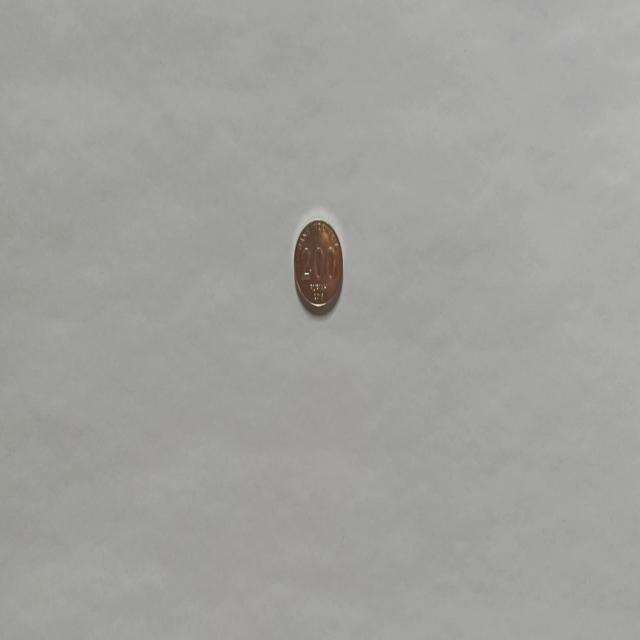dua ratus rupiah: (292, 217, 344, 315)
